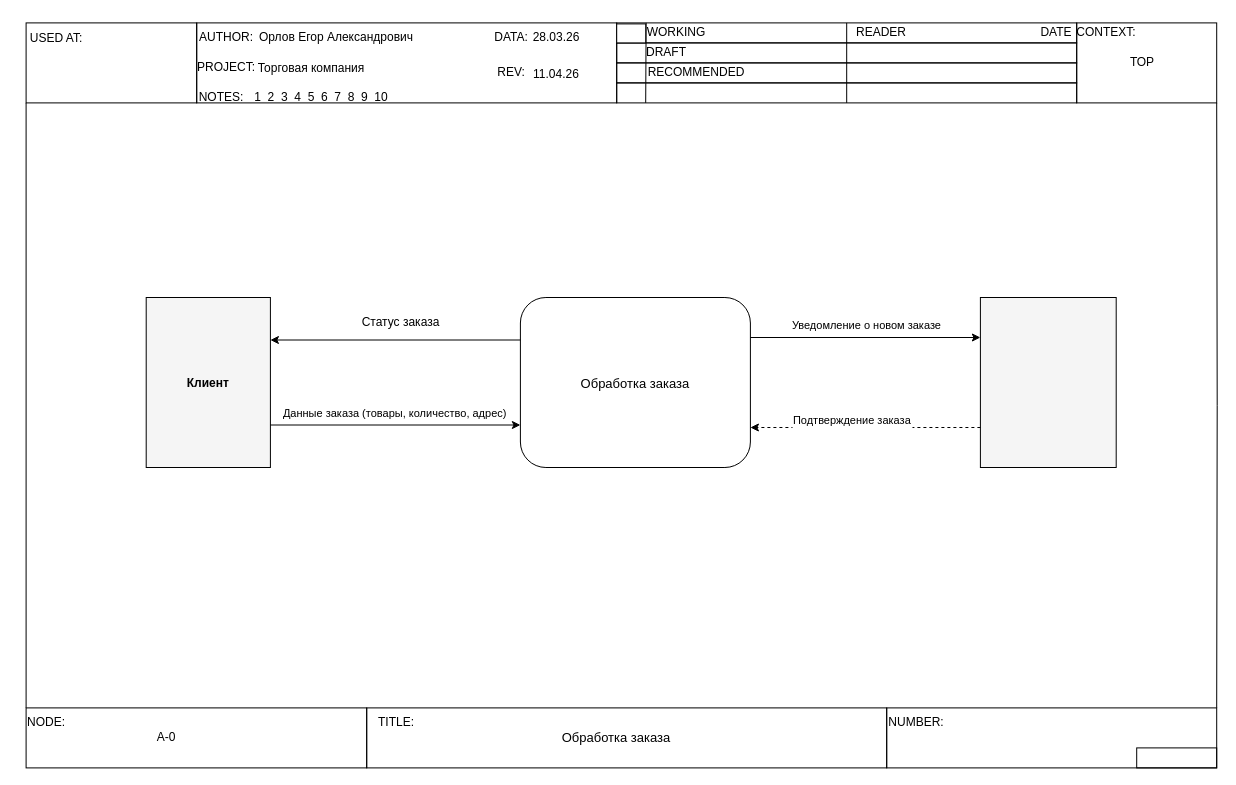
The diagram is 1236 pixels wide and 785 high, and some of its shapes have lost their labels. Each missing label, with the box of its shape:
PUBLICATION: (616, 82, 1077, 103)
Менеджер: (979, 296, 1116, 468)
